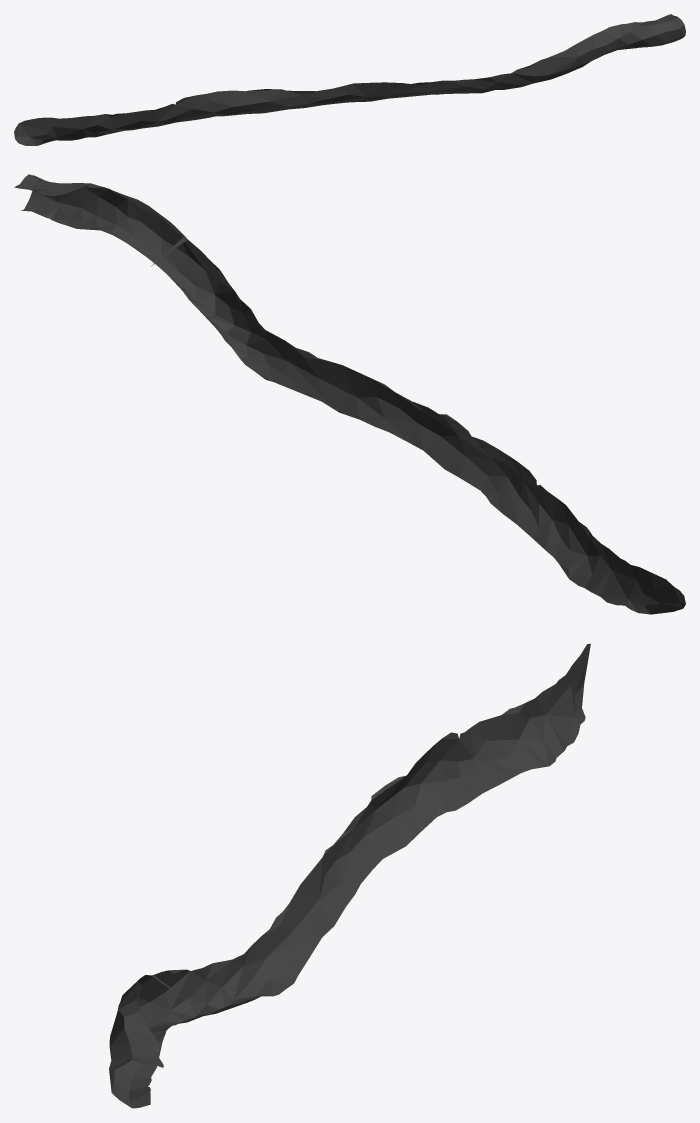
The model's file is A_carotid_common_R_A_carotid_common_R.glb.
3 views of the same model, one above another, from view 1: azimuth 30°, elevation 25°; view 2: azimuth 150°, elevation 25°; view 3: azimuth 270°, elevation 25° (orthographic). The views are drawn at different scales.
Visible parts, largest first — view 1: A_carotid_common_R_A_carotid_common_R; view 2: A_carotid_common_R_A_carotid_common_R; view 3: A_carotid_common_R_A_carotid_common_R.
Boxes of the visible parts, x1,y1,x2,y2 form: A_carotid_common_R_A_carotid_common_R: (14, 14, 685, 145); A_carotid_common_R_A_carotid_common_R: (14, 174, 685, 614); A_carotid_common_R_A_carotid_common_R: (109, 643, 590, 1108).
Bounding box in the file's own units: 0.0574 × 0.00876 × 0.0216.
Materials: 1 (1 with a texture image).
